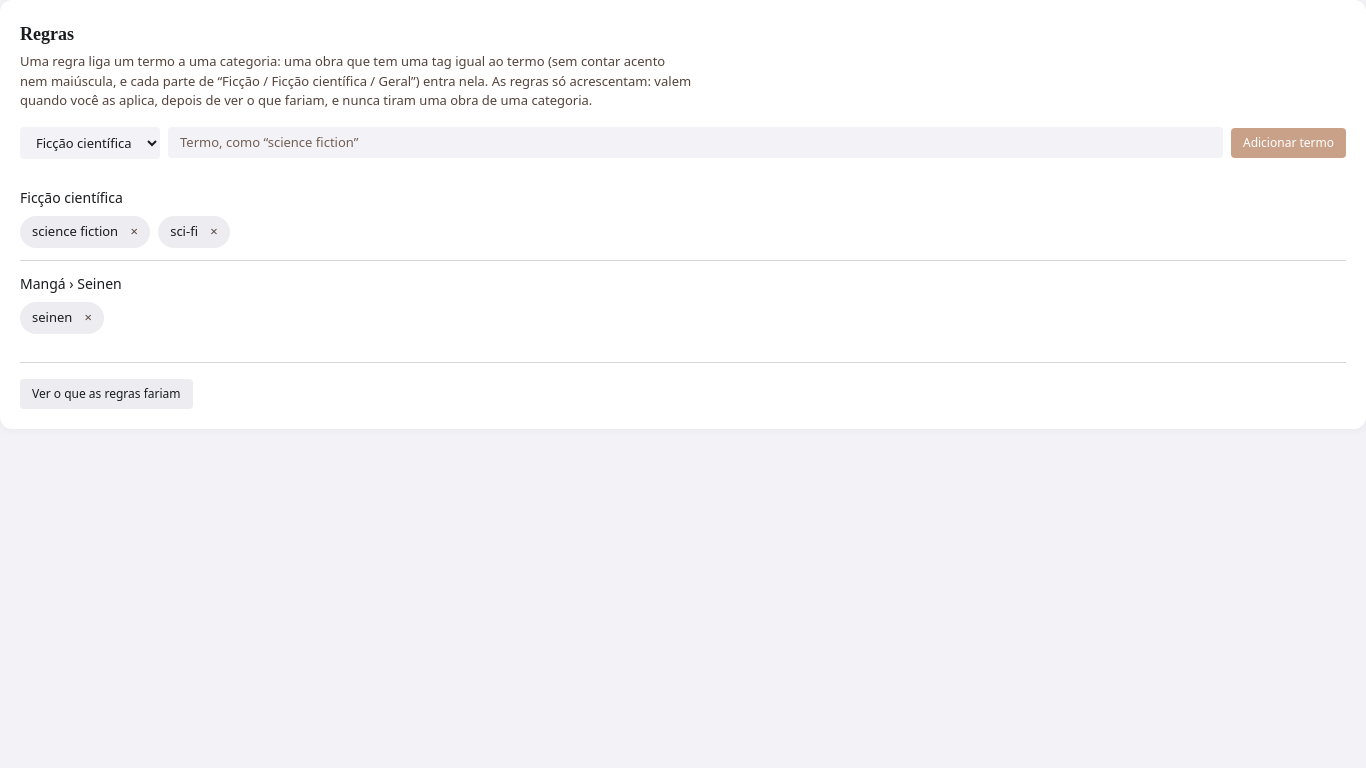
Test: CategoryRules: what they would do, and doing it › says it in the singular for one
This screenshot has width=1366, height=768.
What coordinates should you click on to do the following:
click the button "Ver o que as regras fariam"
I would click on:
 (106, 394)
Its box is [20,378,192,408].
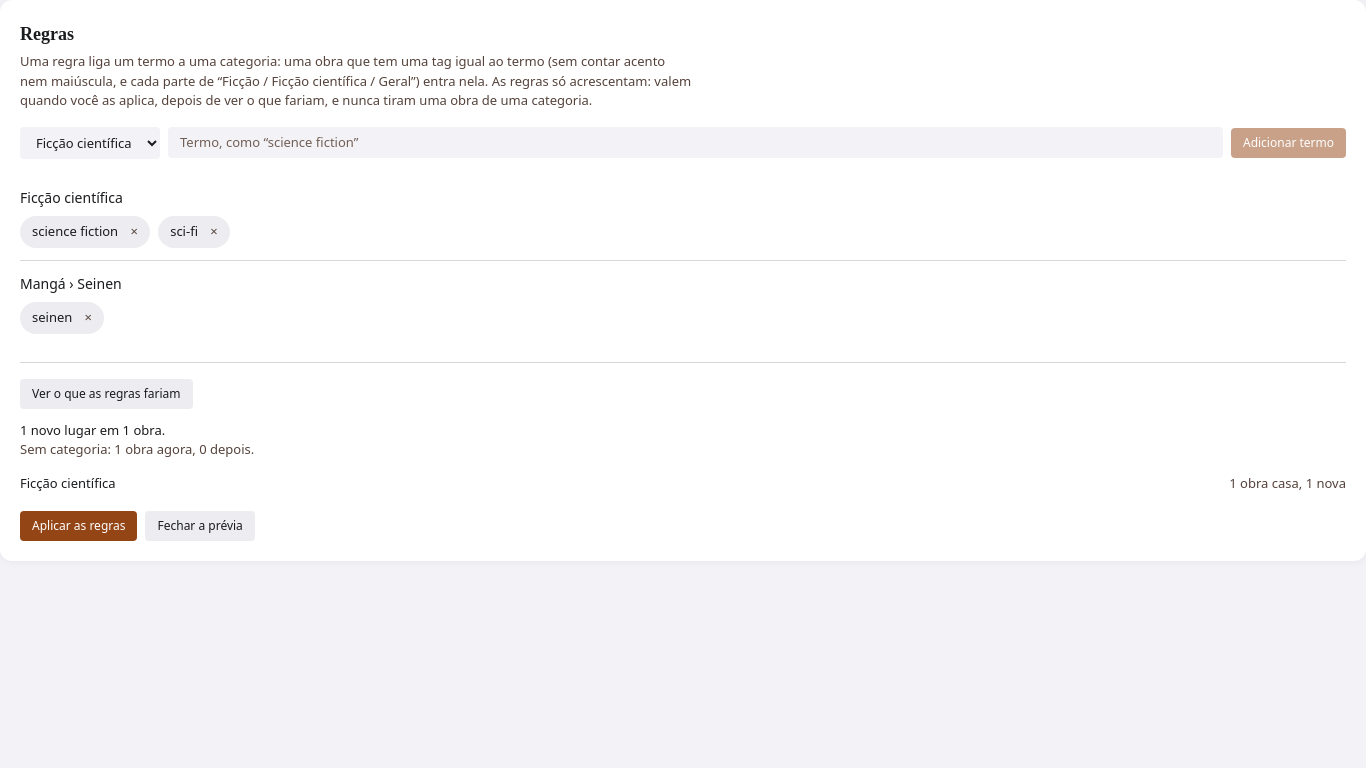
Check: the element named "Prévia das regras" shows "1 novo lugar em 1 obra.", box [20,420,165,438]
Check: the element named "Prévia das regras" shows "Sem categoria: 1 obra agora, 0 depois.", box [20,420,1346,541]
